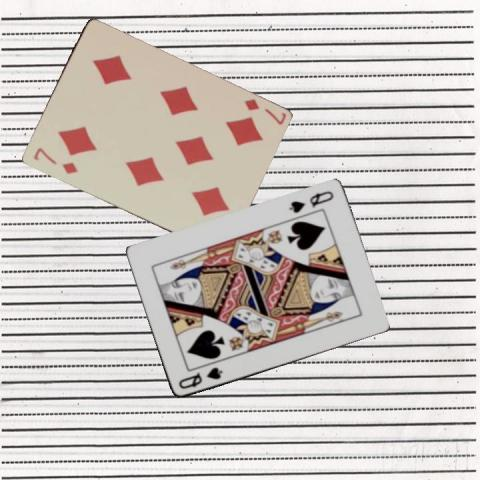7d: (30, 145, 78, 176), (241, 96, 287, 127)
Qs: (286, 188, 334, 215), (175, 365, 224, 391)
